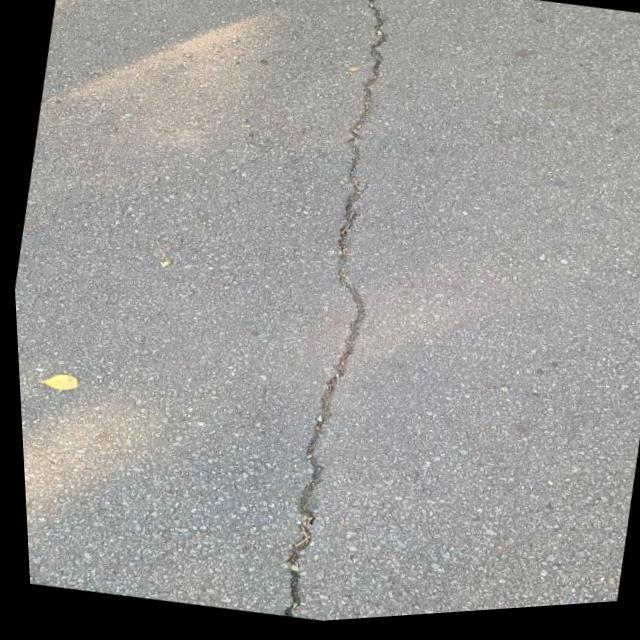Crack: (226, 0, 457, 628)
